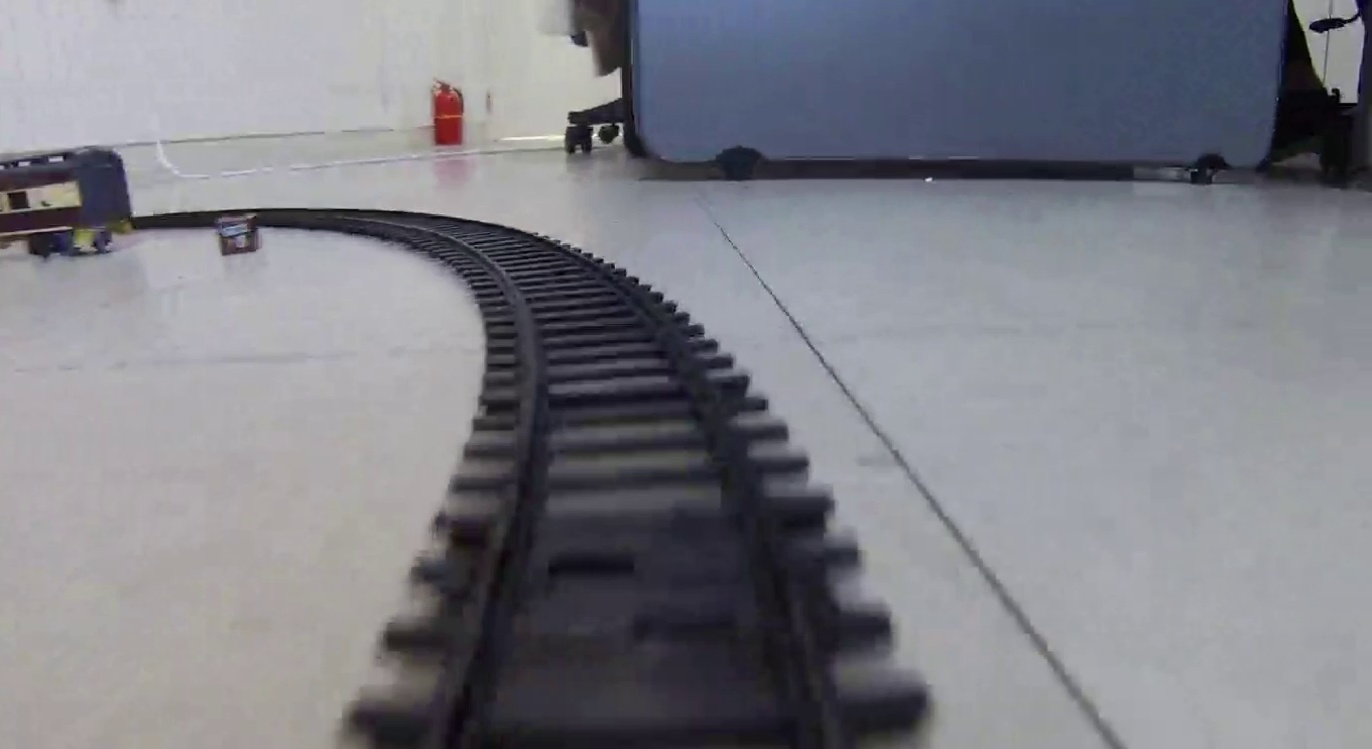box: (216, 212, 264, 258)
